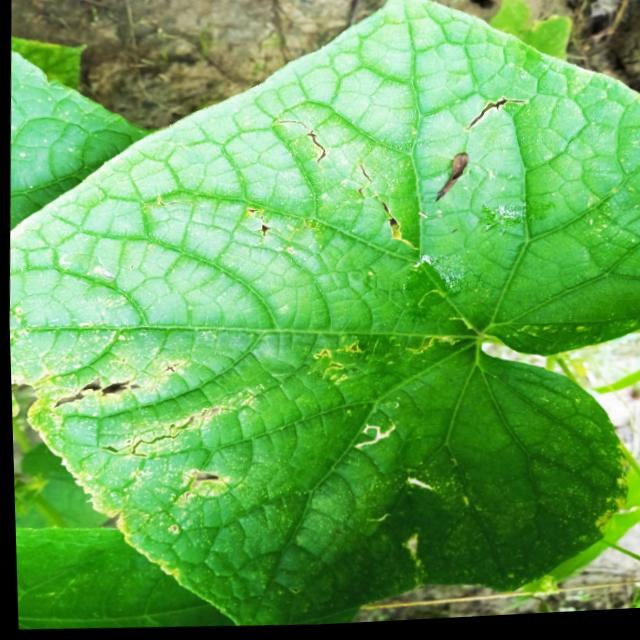Anthracnose: (99, 398, 233, 497), (46, 365, 148, 416)
